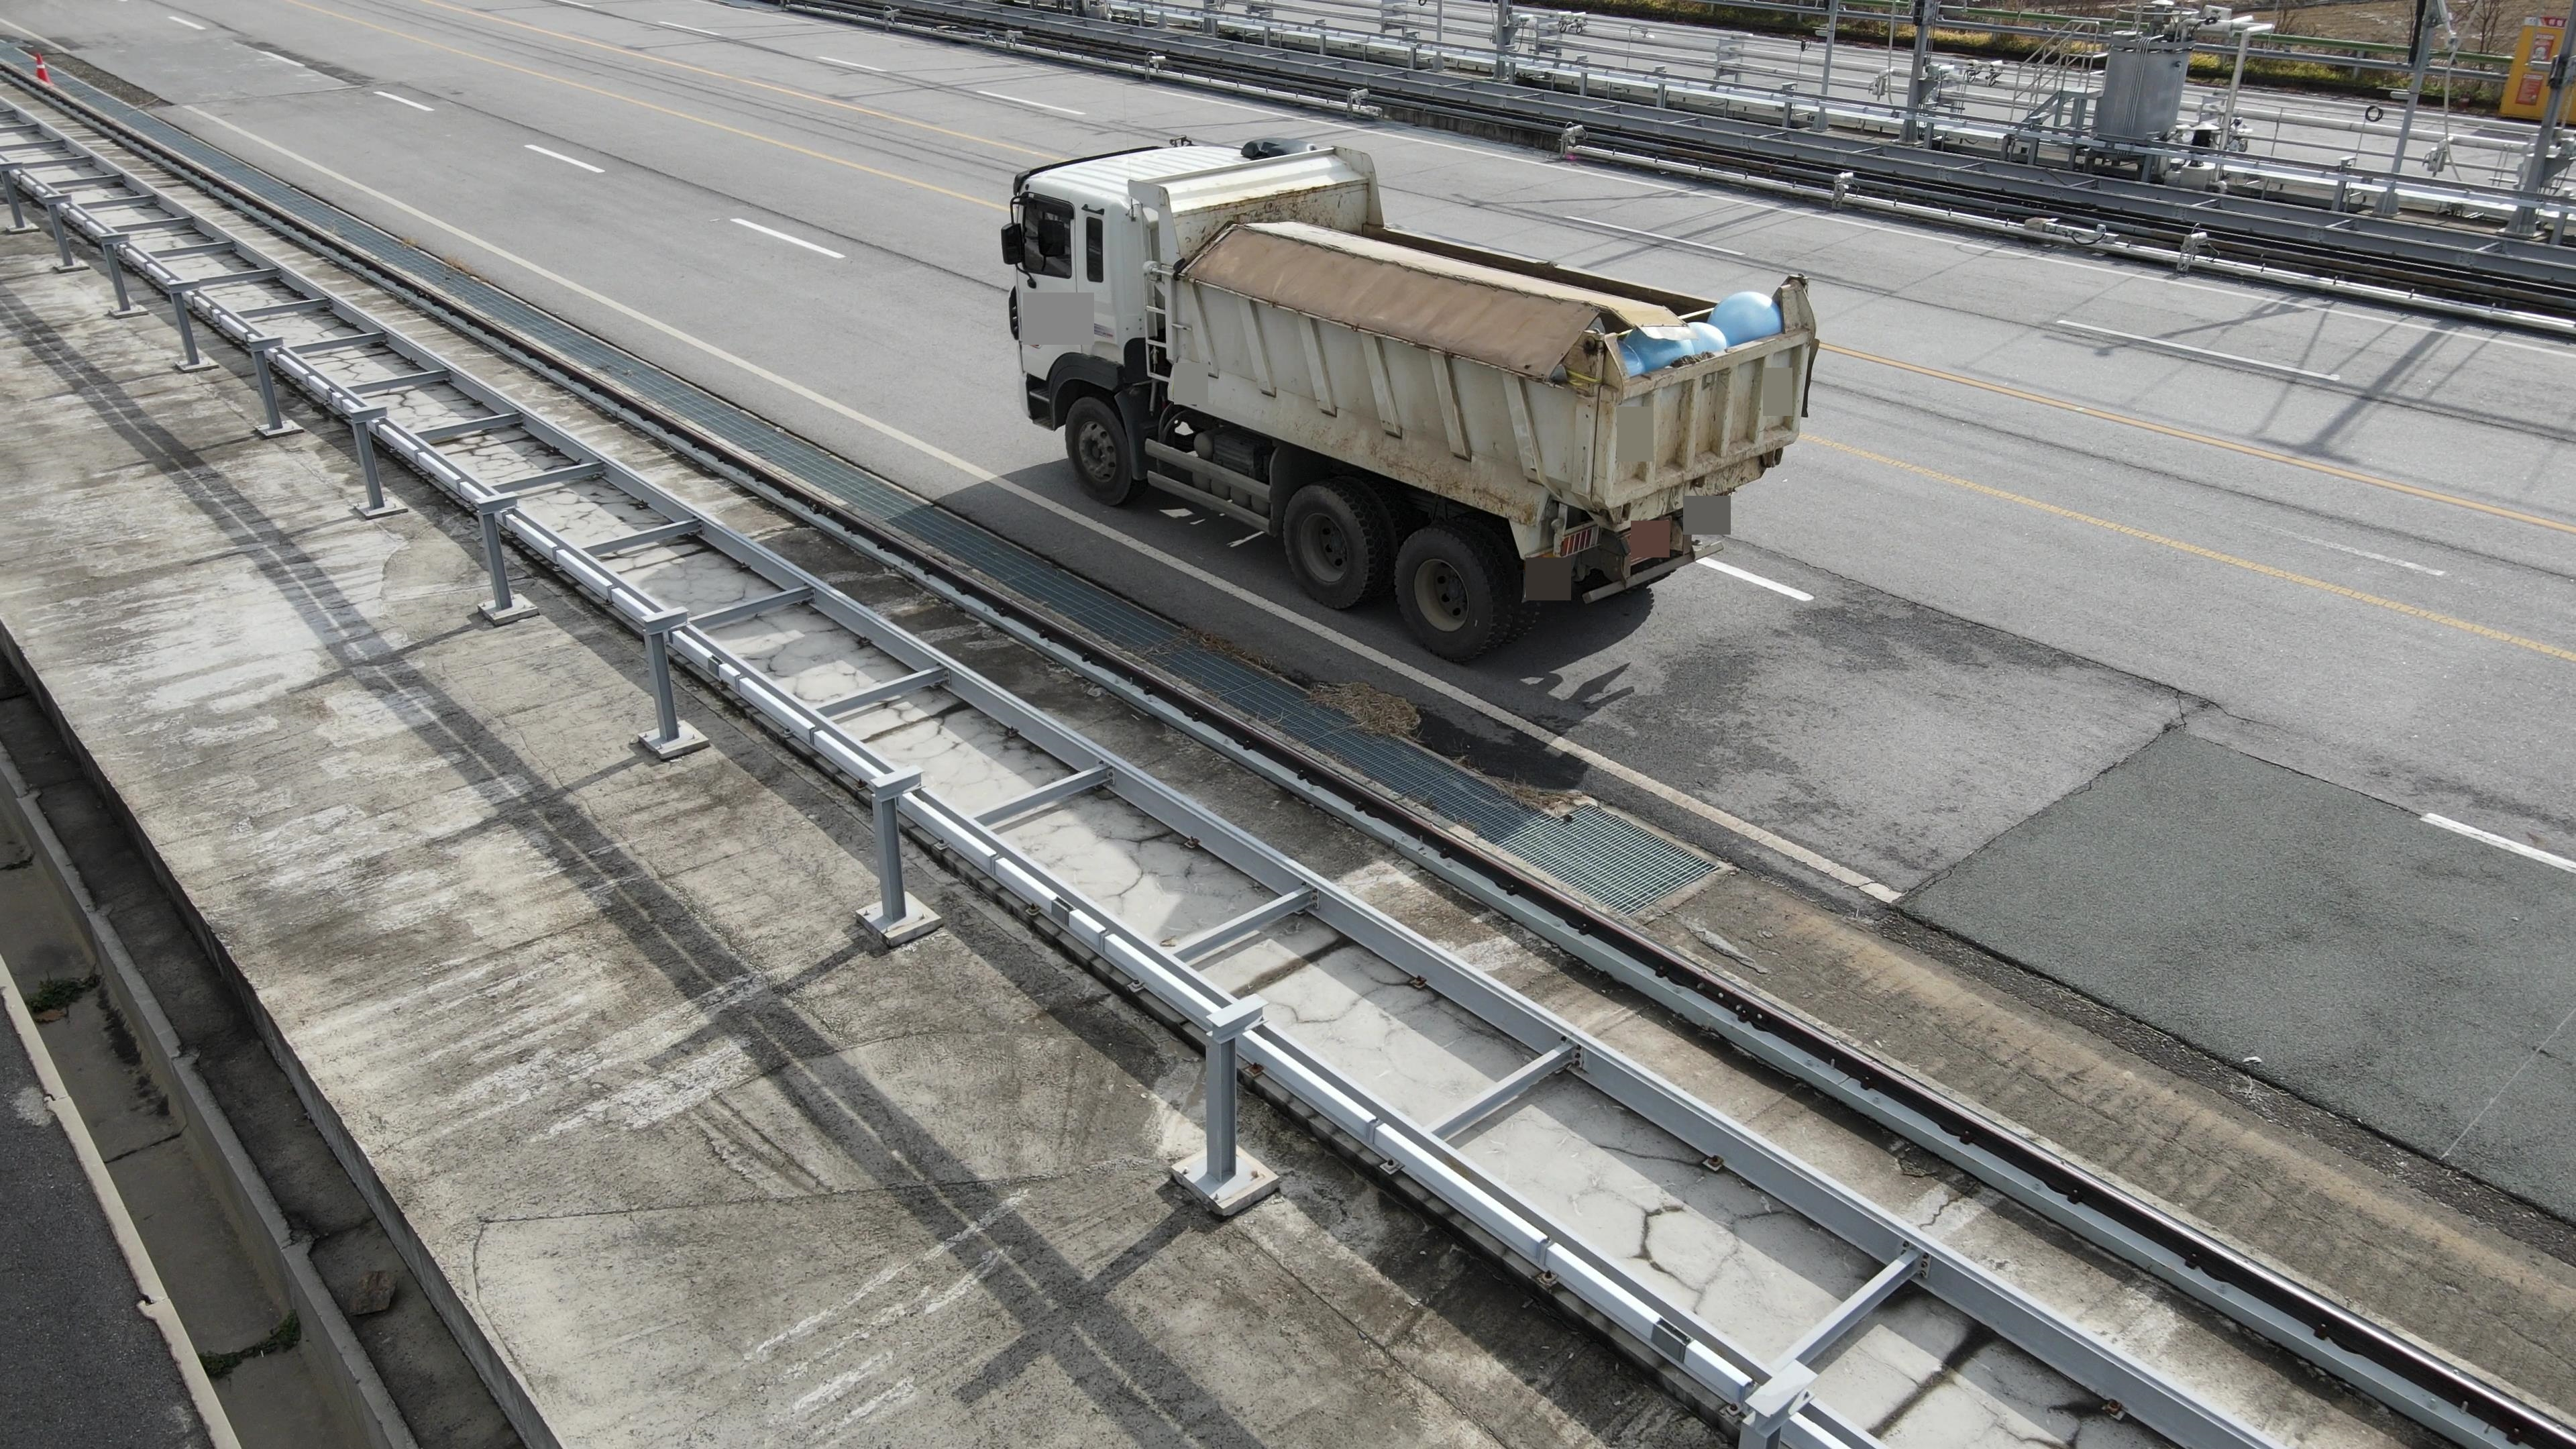불법차량: (1000, 134, 1819, 663)
